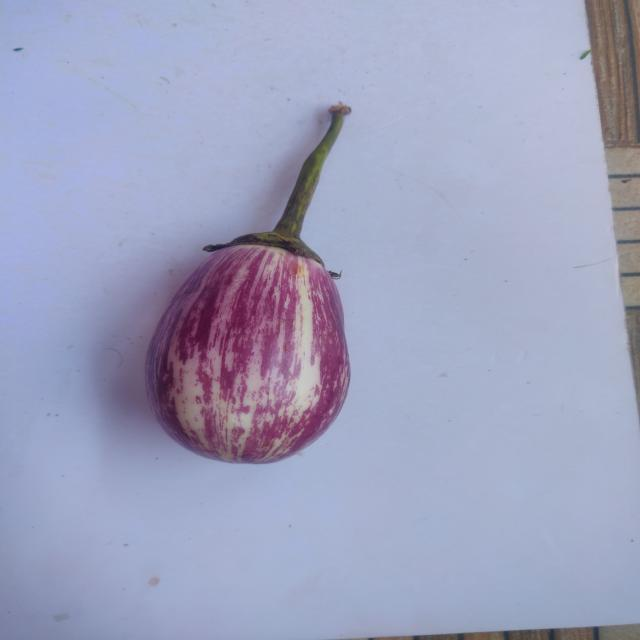Eggplant: (150, 88, 390, 484)
